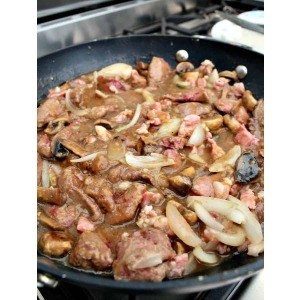liver_brain food: (79, 101, 197, 224)
